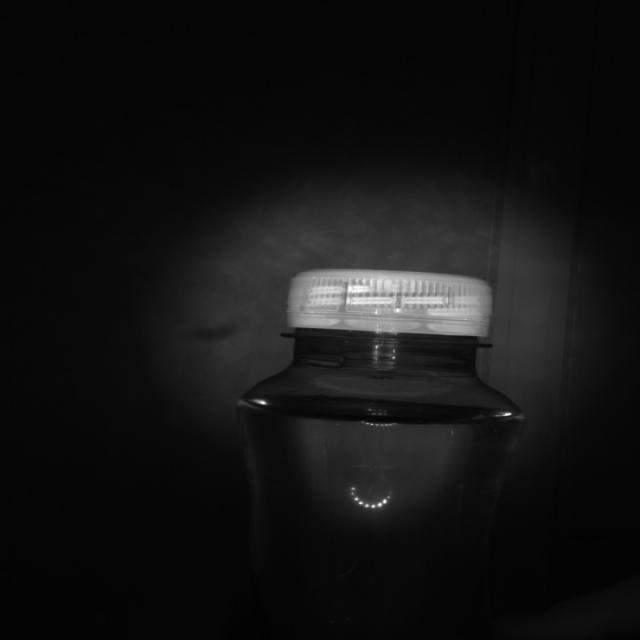Good: (286, 268, 495, 338)
